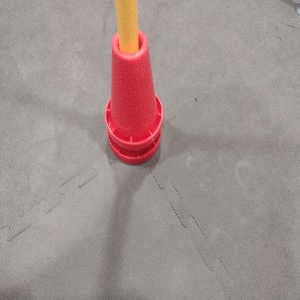Red_2: (103, 27, 163, 163)
